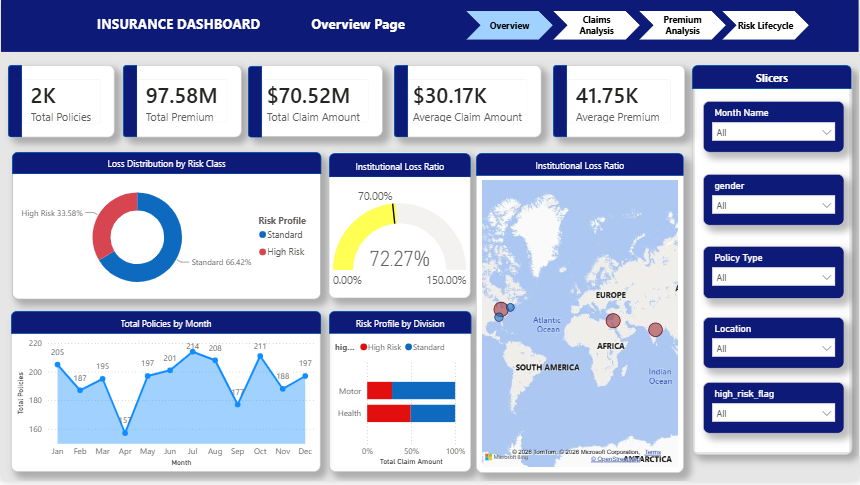

This screenshot's page, from the dashboard's own definition file:
{"tool":"powerbi","page":{"name":"Overview","canvas":[1280,720],"ordinal":0},"visuals":[{"type":"shape","box":[1030.8,100,238.6,580],"z":0},{"type":"donutChart","title":"Loss Distribution by Risk Class","fields":{"Category":["v_executive_summary.high_risk_flag"],"Y":["_Measures.Total Claim Cost"]},"box":[15.9,229.1,460.9,219.6],"z":0,"group":"g9"},{"type":"map","title":"Geographic Claims Concentration","fields":{"Category":["v_executive_summary.region"],"Size":["_Measures.Total Claim Cost"]},"box":[709,229.9,310.3,475.9],"z":1000,"group":"g13"},{"type":"slicer","fields":{"Values":["v_executive_summary.business_line"]},"box":[1047.3,368.7,211.2,78.6],"z":1000},{"type":"shape","box":[0,0,1280.2,79.2],"z":2000},{"type":"hundredPercentStackedBarChart","title":" Risk Profile by Division","fields":{"Category":["v_executive_summary.business_line"],"Y":["_Measures.Total Claim Cost"],"Series":["v_executive_summary.high_risk_flag"]},"box":[489.2,466.2,212.3,240],"z":3000},{"type":"slicer","fields":{"Values":["Dim_Geography.policy_state"]},"box":[1047.3,474.1,211.2,77.2],"z":4000},{"type":"slicer","fields":{"Values":["Dim_Gender.gender"]},"box":[1047.3,261.6,211.2,76.8],"z":5000},{"type":"gauge","fields":{"Y":["_Measures.Institutional Loss Ratio"]},"box":[489.5,228.9,210.8,218.4],"z":6000,"group":"g11"},{"type":"slicer","fields":{"Values":["v_executive_summary.high_risk_flag"]},"box":[1047.3,571.4,211.2,77.2],"z":6000},{"type":"slicer","fields":{"Values":["Dim_Calendar.Month"]},"box":[1047.3,152.7,211.2,77.2],"z":7000},{"type":"areaChart","fields":{"Category":["Dim_Calendar.Month"],"Y":["_Measures.Total Policies"]},"box":[14.7,465.6,461.6,240.2],"z":8000},{"type":"shape","box":[14.3,465.7,463,34.3],"z":9000},{"type":"group","id":"g1","title":"Group 6","box":[10.8,98.6,159.5,108.1],"z":10000},{"type":"cardVisual","fields":{"Data":["_Measures.Total Policies"]},"box":[10.8,98.6,159.5,108.1],"z":11000,"group":"g4"},{"type":"group","id":"g2","title":"Group 7","box":[182.4,98.6,177,108.1],"z":11000},{"type":"cardVisual","fields":{"Data":["_Measures.Total Premium Collected"]},"box":[182.4,98.6,177,107.8],"z":12000,"group":"g6"},{"type":"group","id":"g3","title":"Group 8","box":[368.9,98.6,201.4,108.1],"z":12000},{"type":"group","id":"g4","title":"Group 1","box":[10.8,98.6,159.5,108.1],"z":13000,"group":"g1"},{"type":"cardVisual","fields":{"Data":["_Measures.Average Premium"]},"box":[824.3,98.7,197.3,108],"z":13000,"group":"g10"},{"type":"group","id":"g5","title":"Group 9","box":[586.4,98.8,221.1,112.8],"z":13000},{"type":"group","id":"g6","title":"Group 2","box":[182.4,98.6,177,107.8],"z":14000,"group":"g2"},{"type":"group","id":"g7","title":"Group 10","box":[824.3,98.6,197.3,108.1],"z":14000},{"type":"group","id":"g8","title":"Group 3","box":[368.9,98.6,201.4,107.1],"z":15000,"group":"g3"},{"type":"group","id":"g9","title":"Group 11","box":[15.8,228.9,461.8,219.7],"z":15000},{"type":"group","id":"g10","title":"Group 4","box":[824.3,98.7,197.3,108],"z":16000,"group":"g7"},{"type":"group","id":"g11","title":"Group 12","box":[489.5,228.9,211.8,218.4],"z":16000},{"type":"group","id":"g12","title":"Group 5","box":[586.4,99,221,112.6],"z":17000,"group":"g5"},{"type":"cardVisual","fields":{"Data":["_Measures.Average Claim Amount"]},"box":[586.4,99,221,112.6],"z":17000,"group":"g12"},{"type":"group","id":"g13","title":"Group 13","box":[708.9,229.1,310.3,476.7],"z":17000},{"type":"cardVisual","fields":{"Data":["_Measures.Total Claim Amount"]},"box":[368.9,98.6,201.4,107.1],"z":18000,"group":"g8"},{"type":"shape","box":[489.1,466.1,212.6,33.9],"z":18000},{"type":"shape","box":[1031.2,98.7,238.4,35.7],"z":19000},{"type":"shape","box":[489.7,229.7,211.6,36.3],"z":19501,"group":"g11"},{"type":"shape","box":[15.8,228.9,461.8,33.1],"z":19502,"group":"g9"},{"type":"shape","box":[708.9,229.1,310.1,34.2],"z":19503,"group":"g13"},{"type":"shape","box":[11,98.7,21.2,108],"z":19504,"group":"g1"},{"type":"shape","box":[182.4,98.8,21.4,107.9],"z":19505,"group":"g2"},{"type":"shape","box":[369.1,99.9,21.3,106.9],"z":19505,"group":"g3"},{"type":"shape","box":[586.4,98.8,21.4,112.7],"z":19508,"group":"g5"},{"type":"shape","box":[824.4,98.6,21.3,107.8],"z":19509,"group":"g7"},{"type":"shape","box":[694.3,18.6,130,42.9],"z":20000},{"type":"shape","box":[824.3,18.6,130,42.9],"z":21000},{"type":"shape","box":[952.9,18.6,130,42.9],"z":22000},{"type":"shape","box":[1075.7,18.6,130,42.9],"z":23000},{"type":"shape","box":[126.2,18.5,276.9,36.9],"z":24000},{"type":"shape","box":[403.1,13.8,260,45.7],"z":25000}]}

Visuals, with their boxes in screenshot pixels (x1, y1, x2, y2), scaled from the page's 1280x720 canvas onto the 860x485 screenshot:
shape: BBox(693, 67, 853, 458)
"Loss Distribution by Risk Class" donutChart: BBox(11, 154, 320, 302)
"Geographic Claims Concentration" map: BBox(476, 155, 685, 475)
slicer - v_executive_summary.business_line: BBox(704, 248, 846, 301)
shape: BBox(0, 0, 859, 53)
" Risk Profile by Division" hundredPercentStackedBarChart: BBox(329, 314, 471, 476)
slicer - Dim_Geography.policy_state: BBox(704, 319, 846, 371)
slicer - Dim_Gender.gender: BBox(704, 176, 846, 228)
gauge - _Measures.Institutional Loss Ratio: BBox(329, 154, 471, 301)
slicer - v_executive_summary.high_risk_flag: BBox(704, 385, 846, 437)
slicer - Dim_Calendar.Month: BBox(704, 103, 846, 155)
areaChart - Dim_Calendar.Month x _Measures.Total Policies: BBox(10, 314, 320, 475)
shape: BBox(10, 314, 321, 337)
"Group 6" group: BBox(7, 66, 114, 139)
cardVisual - _Measures.Total Policies: BBox(7, 66, 114, 139)
"Group 7" group: BBox(123, 66, 241, 139)
cardVisual - _Measures.Total Premium Collected: BBox(123, 66, 241, 139)
"Group 8" group: BBox(248, 66, 383, 139)
"Group 1" group: BBox(7, 66, 114, 139)
cardVisual - _Measures.Average Premium: BBox(554, 66, 686, 139)
"Group 9" group: BBox(394, 67, 543, 143)
"Group 2" group: BBox(123, 66, 241, 139)
"Group 10" group: BBox(554, 66, 686, 139)
"Group 3" group: BBox(248, 66, 383, 139)
"Group 11" group: BBox(11, 154, 321, 302)
"Group 4" group: BBox(554, 66, 686, 139)
"Group 12" group: BBox(329, 154, 471, 301)
"Group 5" group: BBox(394, 67, 542, 143)
cardVisual - _Measures.Average Claim Amount: BBox(394, 67, 542, 143)
"Group 13" group: BBox(476, 154, 685, 475)
cardVisual - _Measures.Total Claim Amount: BBox(248, 66, 383, 139)
shape: BBox(329, 314, 471, 337)
shape: BBox(693, 66, 853, 91)
shape: BBox(329, 155, 471, 179)
shape: BBox(11, 154, 321, 176)
shape: BBox(476, 154, 685, 177)
shape: BBox(7, 66, 22, 139)
shape: BBox(123, 67, 137, 139)
shape: BBox(248, 67, 262, 139)
shape: BBox(394, 67, 408, 142)
shape: BBox(554, 66, 568, 139)
shape: BBox(466, 13, 554, 41)
shape: BBox(554, 13, 641, 41)
shape: BBox(640, 13, 728, 41)
shape: BBox(723, 13, 810, 41)
shape: BBox(85, 12, 271, 37)
shape: BBox(271, 9, 446, 40)
